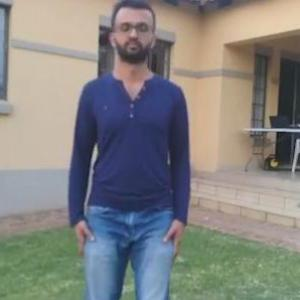follow: (80, 15, 188, 299)
